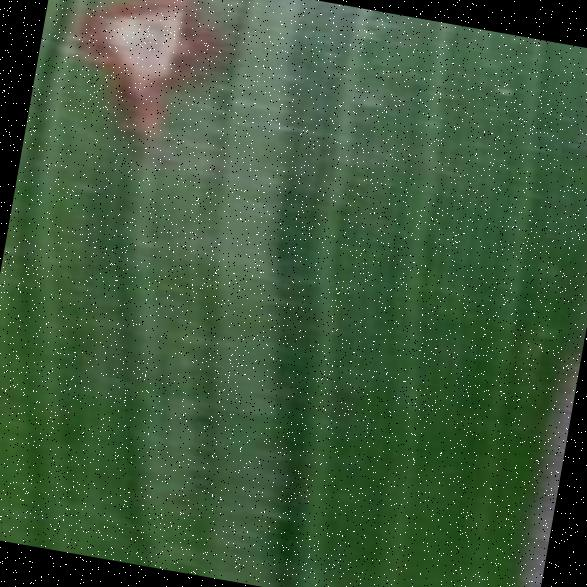Leaf_smut: (46, 0, 244, 146)
